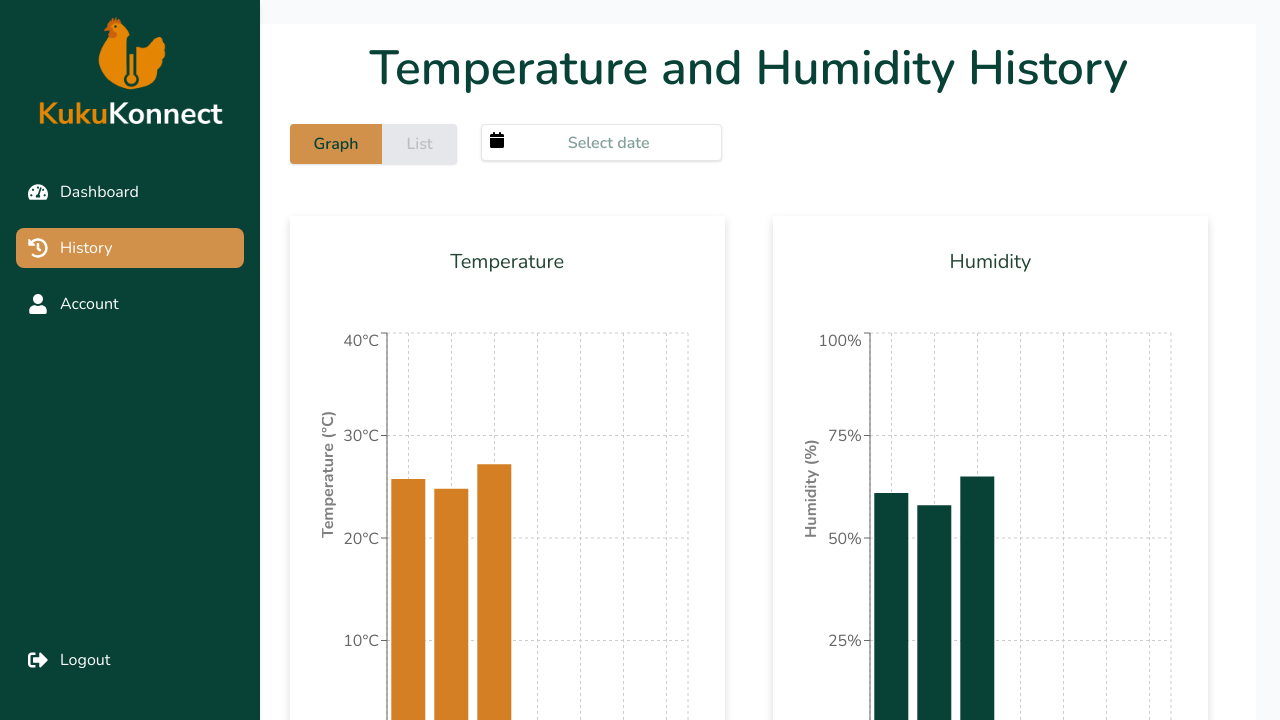
Test case: Full User Flow › Visit History page and test features including datepicker
Expected: the heading "Temperature and Humidity History" is shown, 369,35 -> 1128,101
Expected: the button "Graph" is shown, 290,124 -> 382,164
Step 1. Click the field with placeholder "Select date" → (602, 143), box 481,124 -> 722,161
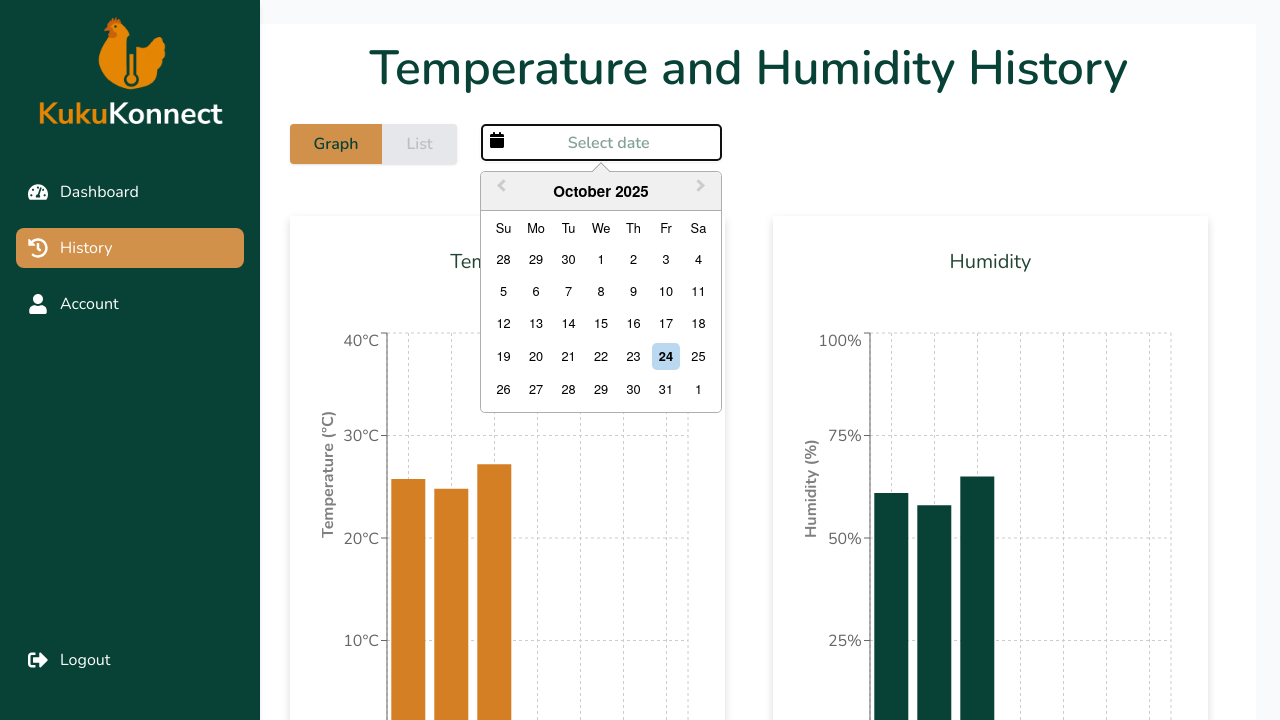
Now the dialog with class "react-datepicker" is shown, box 480,171 -> 722,413
Step 2. Click the cell with class "react-datepicker__day--disabled" → (536, 356), box 529,346 -> 543,365
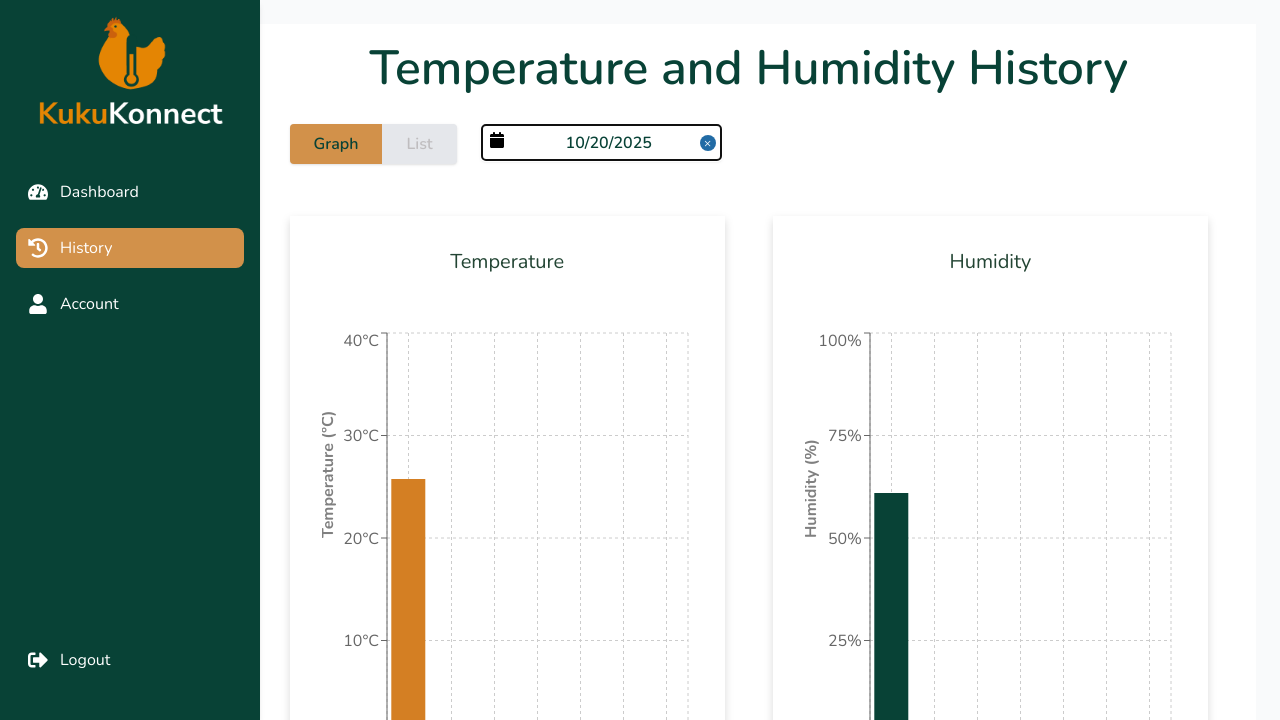
Step 3. Click the button "List" → (420, 144), box 383,124 -> 457,164
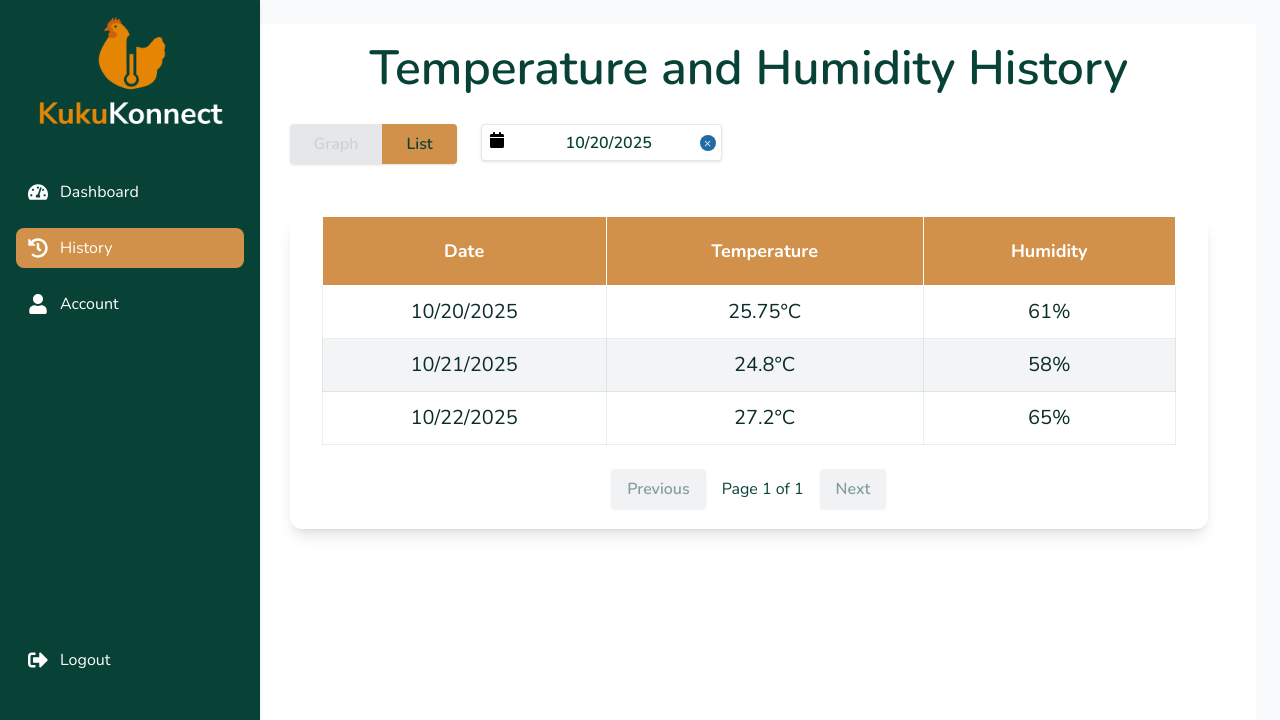
Now the cell "10/20/2025" is shown, box 322,286 -> 606,338
